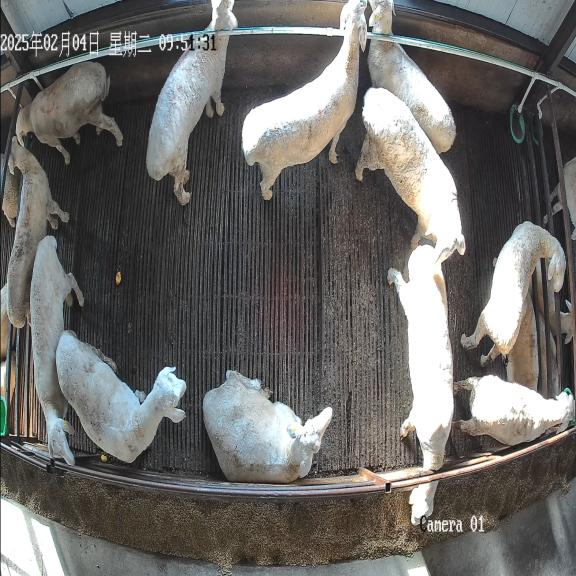drinking: (6, 137, 69, 328), (16, 61, 123, 164)
eating: (388, 243, 454, 529)
lying: (203, 370, 333, 484), (506, 296, 538, 389)
stand: (242, 0, 367, 199), (355, 88, 465, 267), (146, 0, 237, 204), (56, 331, 186, 462), (461, 222, 566, 364), (367, 0, 456, 153), (30, 235, 83, 465), (454, 375, 574, 445)
